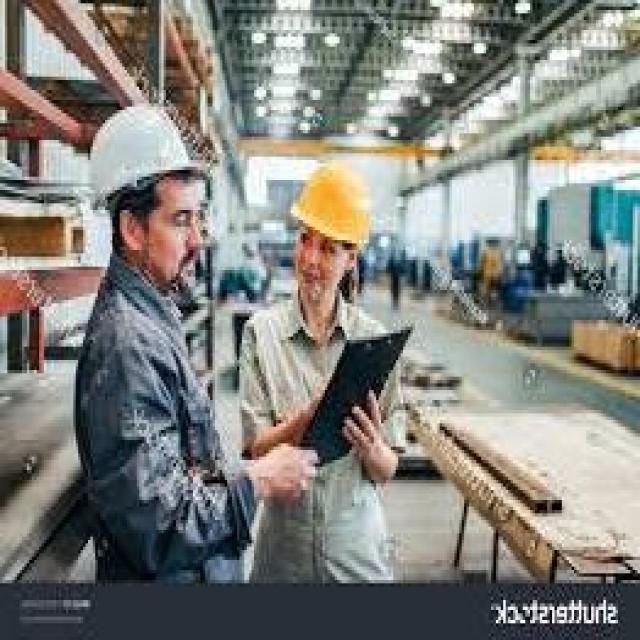safety_helmet: (78, 96, 207, 210), (281, 150, 386, 270)
